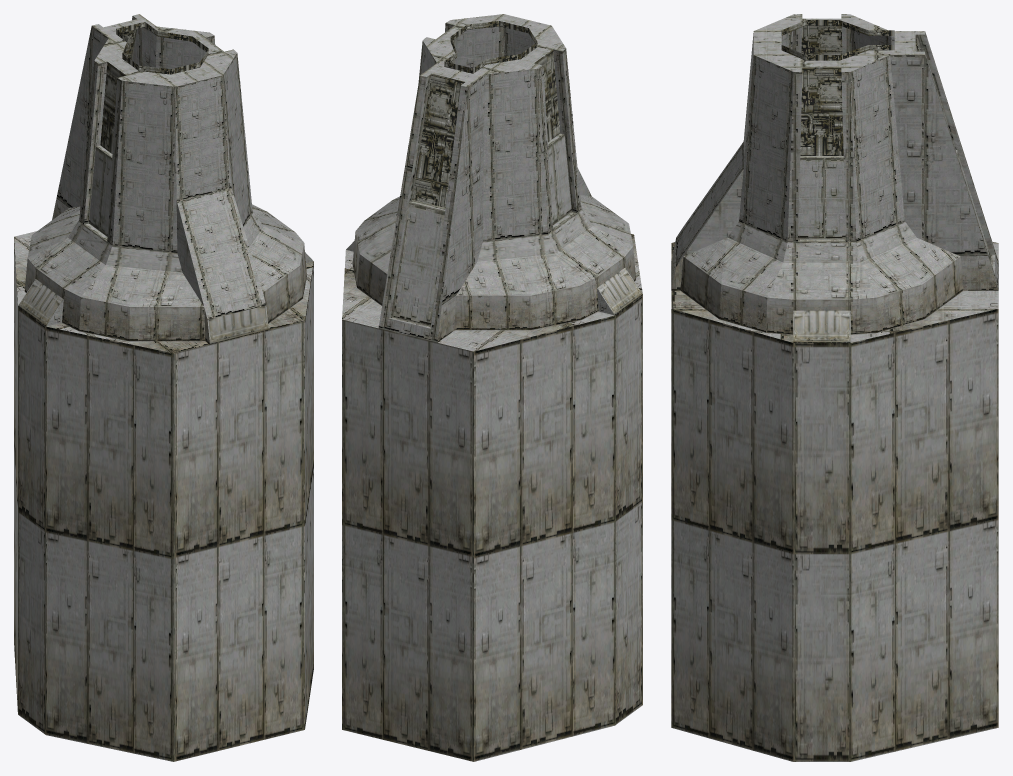
Rendered from ins_all_def_turret_m_s02_l0.fbx.
3 views of the same model, side by side, from view 1: azimuth 30°, elevation 25°; view 2: azimuth 150°, elevation 25°; view 3: azimuth 270°, elevation 25° (orthographic). The views are drawn at different scales.
Parts seen in each view (by area): view 1: mesh_node; view 2: mesh_node; view 3: mesh_node.
Boxes of the visible parts, x1,y1,x2,y2 form: mesh_node: [14, 14, 313, 761]; mesh_node: [342, 14, 642, 761]; mesh_node: [671, 14, 998, 761].
Bounding box in the file's own units: 4.21 × 9.63 × 4.34.
